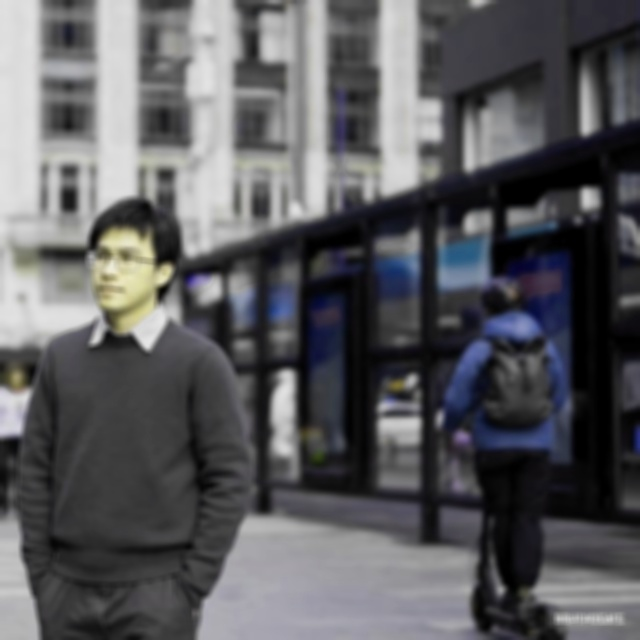Sin_Casco_Mascarrilla: (85, 196, 180, 312)
Sin_Chaleco: (44, 317, 222, 579)
